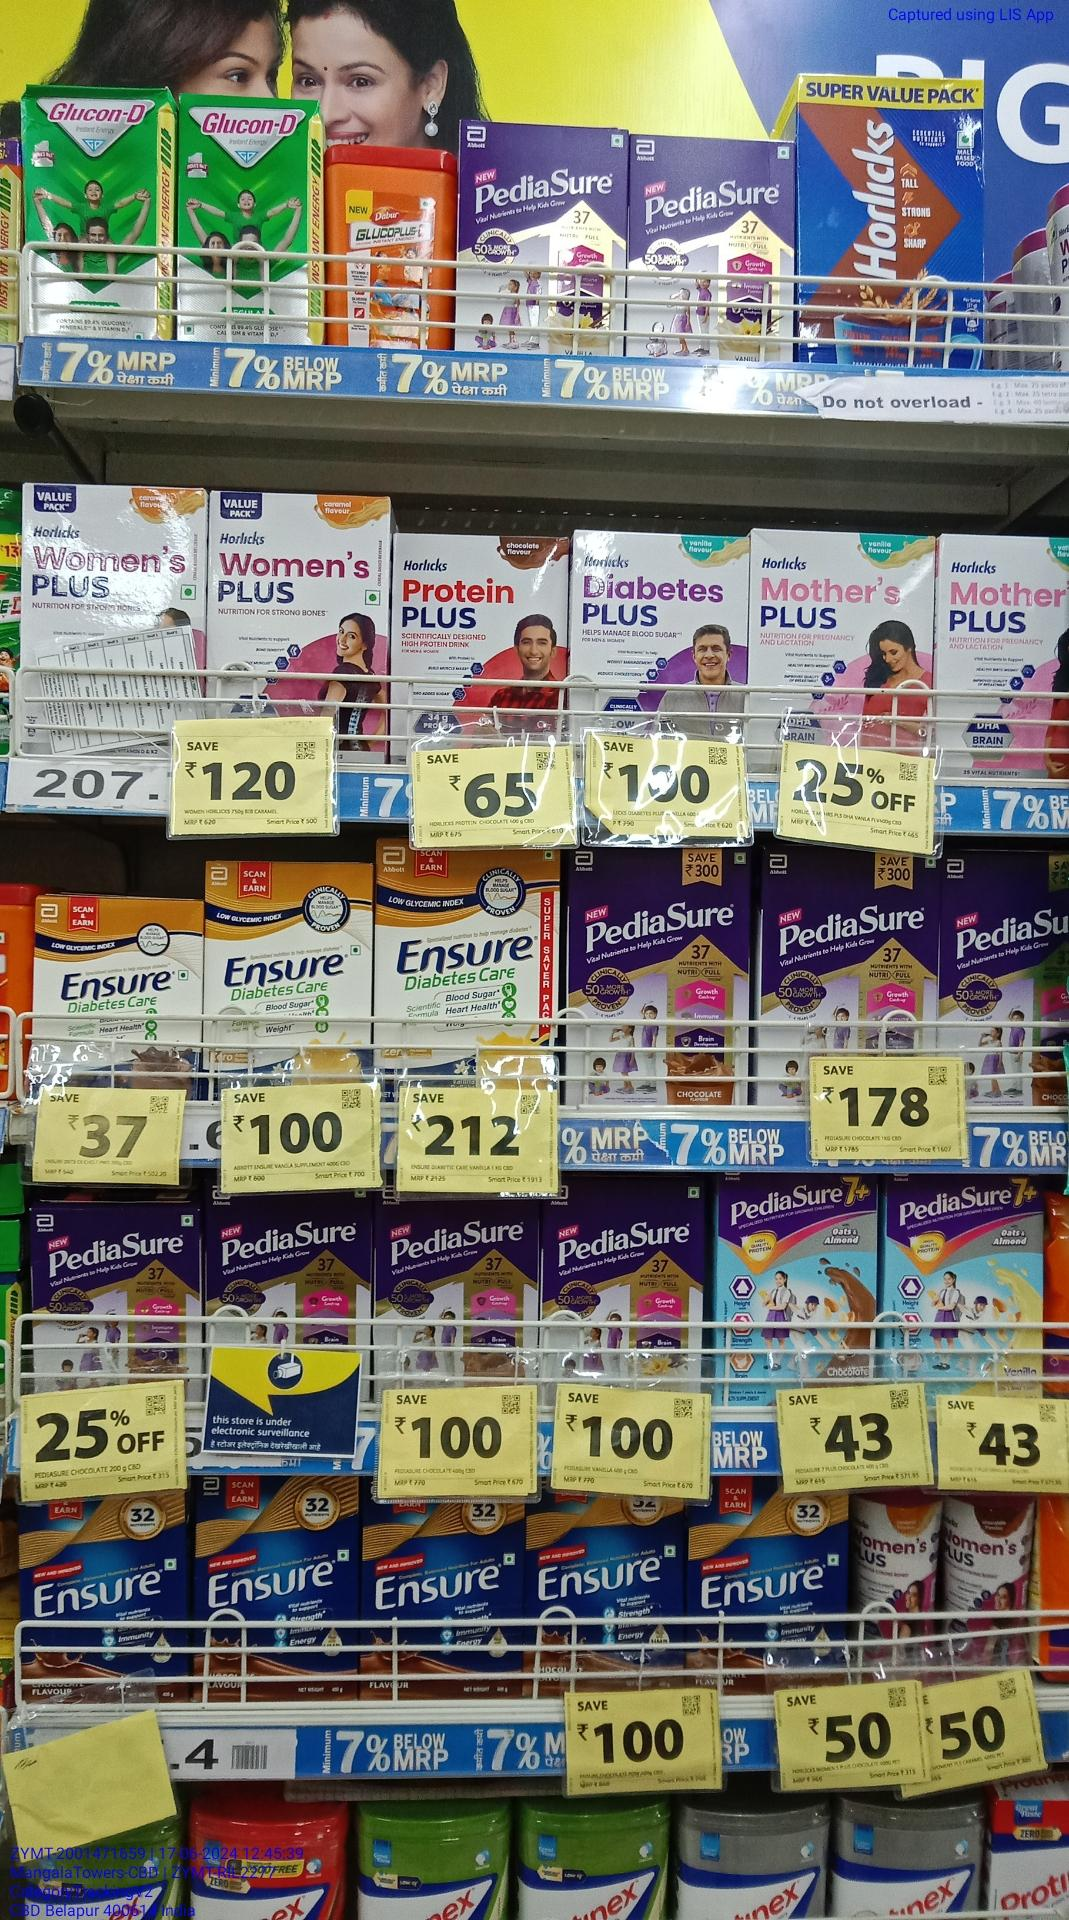HORLICK_CHOCOLATE_1_KG_PACK: (800, 72, 987, 368)
PEDIASURE_CHOCOLATE_500_G_PACK: (29, 1200, 199, 1403), (375, 1194, 538, 1386), (205, 1192, 369, 1348)
PEDIASURE_VANILLA_500_G_PACK: (461, 122, 625, 354), (632, 134, 795, 355), (548, 1187, 703, 1384)
